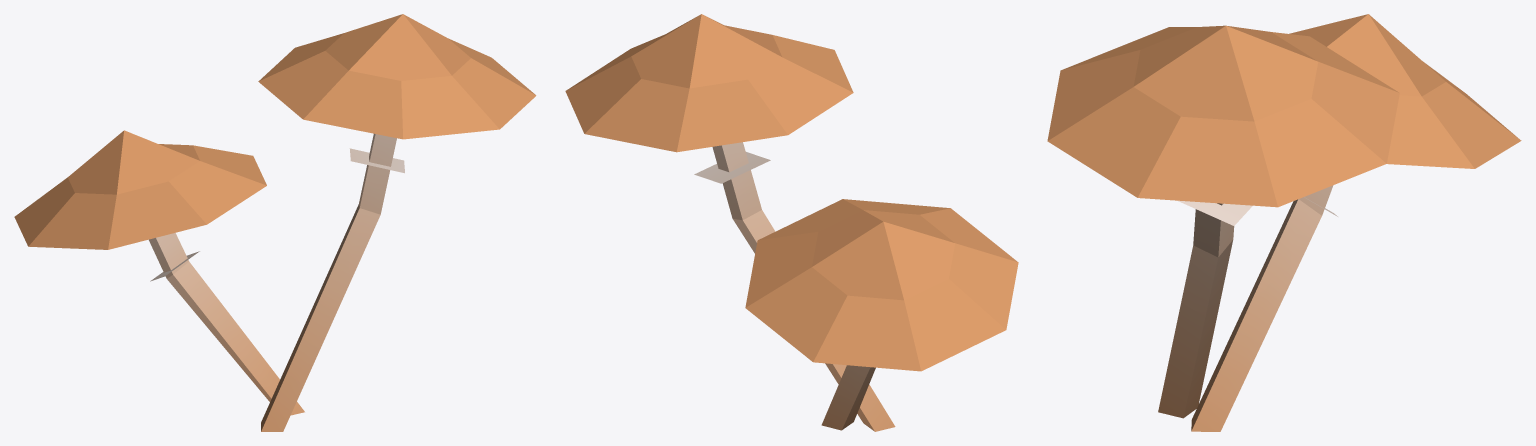
The model's file is Mushroom_i_08.fbx.
3 renders of one model, left to right at view 1: azimuth 30°, elevation 25°; view 2: azimuth 150°, elevation 25°; view 3: azimuth 270°, elevation 25°, orthographic. The views are drawn at different scales.
Parts seen in each view (by area): view 1: Mushroom_i_08; view 2: Mushroom_i_08; view 3: Mushroom_i_08.
Boxes of the visible parts, box(x1,y1,x2,y2) form: Mushroom_i_08: box(14, 14, 536, 431); Mushroom_i_08: box(565, 14, 1018, 431); Mushroom_i_08: box(1047, 14, 1521, 431).
Bounding box in the file's own units: 0.4671 × 0.3695 × 0.3305.
